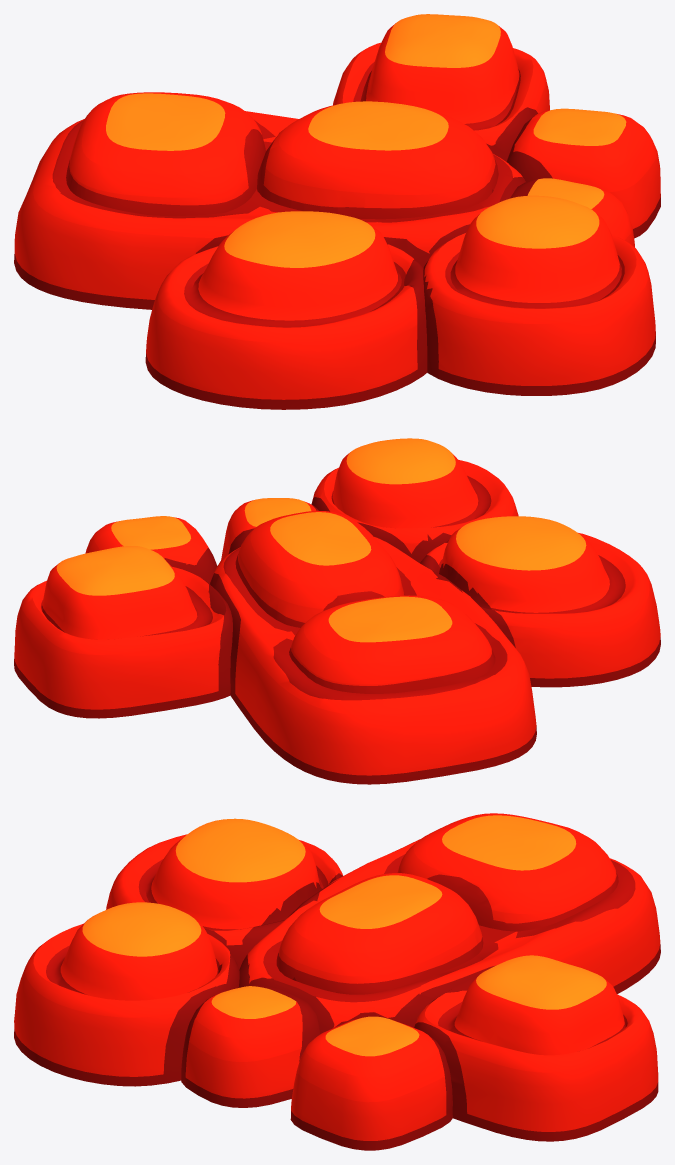
The model's file is bubbles_hot_157.glb.
3 renders of one model, top to bottom at view 1: azimuth 30°, elevation 25°; view 2: azimuth 150°, elevation 25°; view 3: azimuth 270°, elevation 25°, orthographic. The views are drawn at different scales.
Parts seen in each view (by area): view 1: lower_left, bottom, pill, pill_ridge, pill_pad, upper_right, right, small; view 2: pill, upper_right, lower_left, pill_pad, bottom, pill_ridge, right, small; view 3: upper_right, bottom, pill, lower_left, pill_ridge, pill_pad, right, small.
Boxes of the visible parts, x1=… form: lower_left: x1=145, y1=211, x2=427, y2=409; bottom: x1=423, y1=195, x2=655, y2=395; pill: x1=14, y1=111, x2=525, y2=309; pill_ridge: x1=257, y1=101, x2=498, y2=219; pill_pad: x1=66, y1=92, x2=265, y2=216; upper_right: x1=333, y1=14, x2=549, y2=161; right: x1=506, y1=108, x2=660, y2=238; small: x1=510, y1=178, x2=634, y2=247; pill: x1=210, y1=537, x2=536, y2=784; upper_right: x1=14, y1=546, x2=232, y2=718; lower_left: x1=420, y1=516, x2=660, y2=687; pill_pad: x1=289, y1=595, x2=495, y2=693; bottom: x1=311, y1=438, x2=518, y2=562; pill_ridge: x1=235, y1=510, x2=404, y2=627; right: x1=85, y1=516, x2=217, y2=583; small: x1=221, y1=498, x2=318, y2=560; upper_right: x1=414, y1=955, x2=658, y2=1141; bottom: x1=14, y1=902, x2=239, y2=1086; pill: x1=238, y1=839, x2=660, y2=1033; lower_left: x1=106, y1=818, x2=342, y2=969; pill_ridge: x1=276, y1=873, x2=483, y2=994; pill_pad: x1=397, y1=813, x2=618, y2=931; right: x1=290, y1=1016, x2=452, y2=1150; small: x1=181, y1=985, x2=320, y2=1107.
Bounding box in the file's own units: 23.98 × 5.44 × 24.89.
